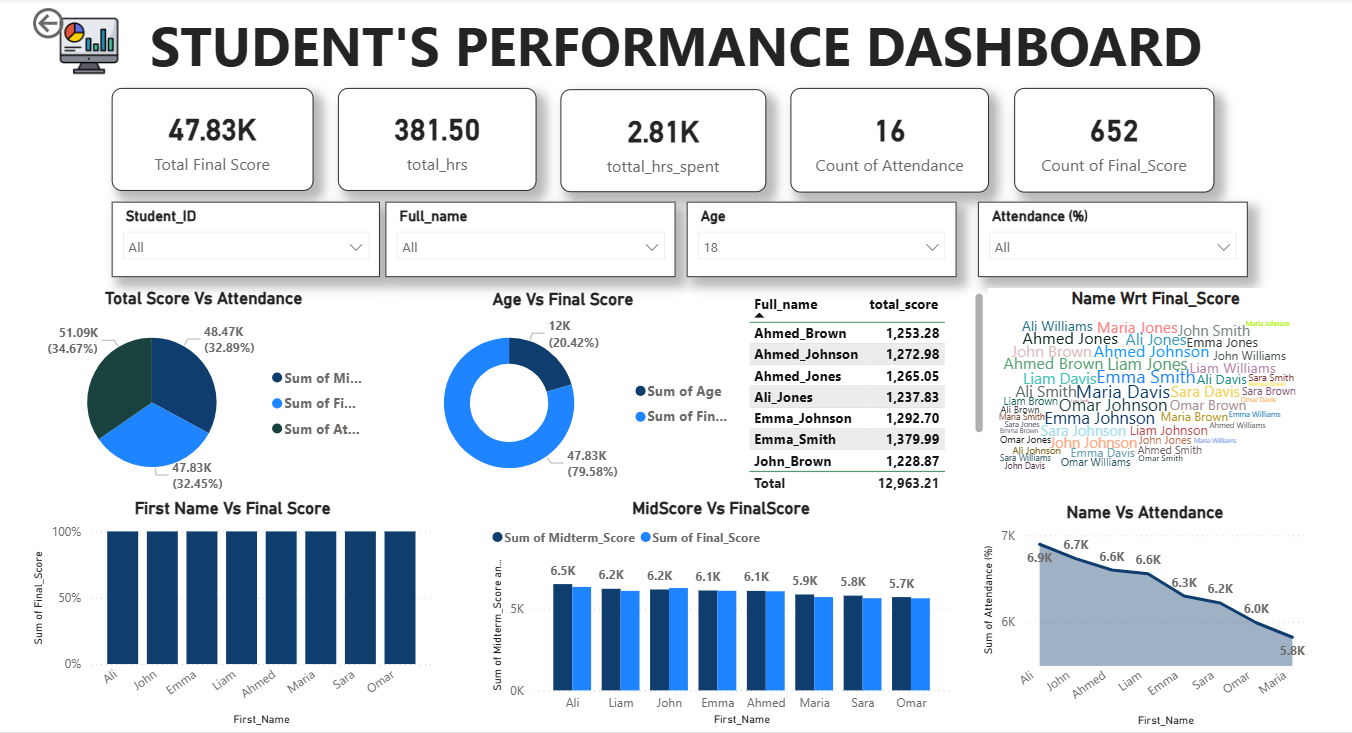

What the dashboard file says about the page in this screenshot:
{"tool":"powerbi","page":{"name":"Performance wise analysis","canvas":[1280,720],"ordinal":0},"visuals":[{"type":"hundredPercentStackedColumnChart","title":"First Name Vs Final Score","fields":{"Category":["Students Overall Performance.First_Name"],"Y":["Sum(Students Overall Performance.Final_Score)"]},"box":[0,488.6,404.3,230],"z":0},{"type":"clusteredColumnChart","title":"MidScore Vs FinalScore","fields":{"Category":["Students Overall Performance.First_Name"],"Y":["Sum(Students Overall Performance.Midterm_Score)","Sum(Students Overall Performance.Final_Score)"]},"box":[452.9,488.6,462.9,230],"z":1000},{"type":"pieChart","title":"Total Score Vs Attendance","fields":{"Y":["Sum(Students Overall Performance.Midterm_Score)","Sum(Students Overall Performance.Final_Score)","Sum(Students Overall Performance.Attendance (%))"]},"box":[0,281.4,347.1,207.1],"z":2000},{"type":"donutChart","title":"Age Vs Final Score","fields":{"Y":["Sum(Students Overall Performance.Age)","Sum(Students Overall Performance.Final_Score)"]},"box":[347.1,282.9,362.9,205.7],"z":3000},{"type":"textbox","box":[0,0,1280,83.3],"z":4000},{"type":"image","box":[24.9,12.4,70.9,59.7],"z":5000},{"type":"card","fields":{"Values":["Sum(Students Overall Performance.Final_Score)"]},"box":[82.3,83.7,199,101.5],"z":6000},{"type":"card","fields":{"Values":["Student_Performance_Factors.total_hrs"]},"box":[306,83.7,196.2,101.5],"z":7000},{"type":"card","fields":{"Values":["Student_Performance_Factors.tottal_hrs_spent"]},"box":[525.6,85.1,203.1,101.5],"z":8000},{"type":"card","fields":{"Values":["Count(Student_Performance_Factors.Attendance)"]},"box":[753.3,83.7,196.2,102.9],"z":9000},{"type":"card","fields":{"Values":["Count(Students Overall Performance.Final_Score)"]},"box":[974.3,83.7,197.6,102.9],"z":10000},{"type":"tableEx","fields":{"Values":["Students Overall Performance.Full_name","Student_Performance_Factors.total_score"]},"box":[705.7,281.4,242.9,207.1],"z":11000},{"type":"actionButton","box":[0,0,100,40],"z":12000},{"type":"areaChart","title":"Name Vs Attendance ","fields":{"Y":["Sum(Students Overall Performance.Attendance (%))"],"Category":["Students Overall Performance.First_Name"]},"box":[938.6,492.9,330,227.1],"z":13000},{"type":"slicer","fields":{"Values":["Students Overall Performance.Student_ID"]},"box":[82.3,196.2,264.8,74.1],"z":14000},{"type":"slicer","fields":{"Values":["Students Overall Performance.Attendance (%)"]},"box":[938.6,196.2,266.2,74.1],"z":15000},{"type":"slicer","fields":{"Values":["Students Overall Performance.Full_name"]},"box":[352.7,196.2,286.8,74.1],"z":16000},{"type":"slicer","fields":{"Values":["Students Overall Performance.Age"]},"box":[650.4,196.2,266.2,74.1],"z":17000},{"type":"WordCloud1447959067750","title":"Name Wrt Final_Score","fields":{"Category":["Students Overall Performance.Full_name"],"Values":["Sum(Students Overall Performance.Final_Score)"]},"box":[948.6,281.4,331.4,207.1],"z":17001}]}

Visuals, with their boxes on the page's 1280x720 design canvas (x1, y1, x2, y2). These are canvas units, not pixel positions in the 1352x733 screenshot, which may show the page scaled, cropped or inside an application window:
"First Name Vs Final Score" hundredPercentStackedColumnChart: 0, 489, 404, 719
"MidScore Vs FinalScore" clusteredColumnChart: 453, 489, 916, 719
"Total Score Vs Attendance" pieChart: 0, 281, 347, 488
"Age Vs Final Score" donutChart: 347, 283, 710, 489
textbox: 0, 0, 1280, 83
image: 25, 12, 96, 72
card - Sum(Students Overall Performance.Final_Score): 82, 84, 281, 185
card - Student_Performance_Factors.total_hrs: 306, 84, 502, 185
card - Student_Performance_Factors.tottal_hrs_spent: 526, 85, 729, 187
card - Count(Student_Performance_Factors.Attendance): 753, 84, 950, 187
card - Count(Students Overall Performance.Final_Score): 974, 84, 1172, 187
tableEx - Students Overall Performance.Full_name x Student_Performance_Factors.total_score: 706, 281, 949, 488
actionButton: 0, 0, 100, 40
"Name Vs Attendance " areaChart: 939, 493, 1269, 720
slicer - Students Overall Performance.Student_ID: 82, 196, 347, 270
slicer - Students Overall Performance.Attendance (%): 939, 196, 1205, 270
slicer - Students Overall Performance.Full_name: 353, 196, 640, 270
slicer - Students Overall Performance.Age: 650, 196, 917, 270
"Name Wrt Final_Score" WordCloud1447959067750: 949, 281, 1280, 488
